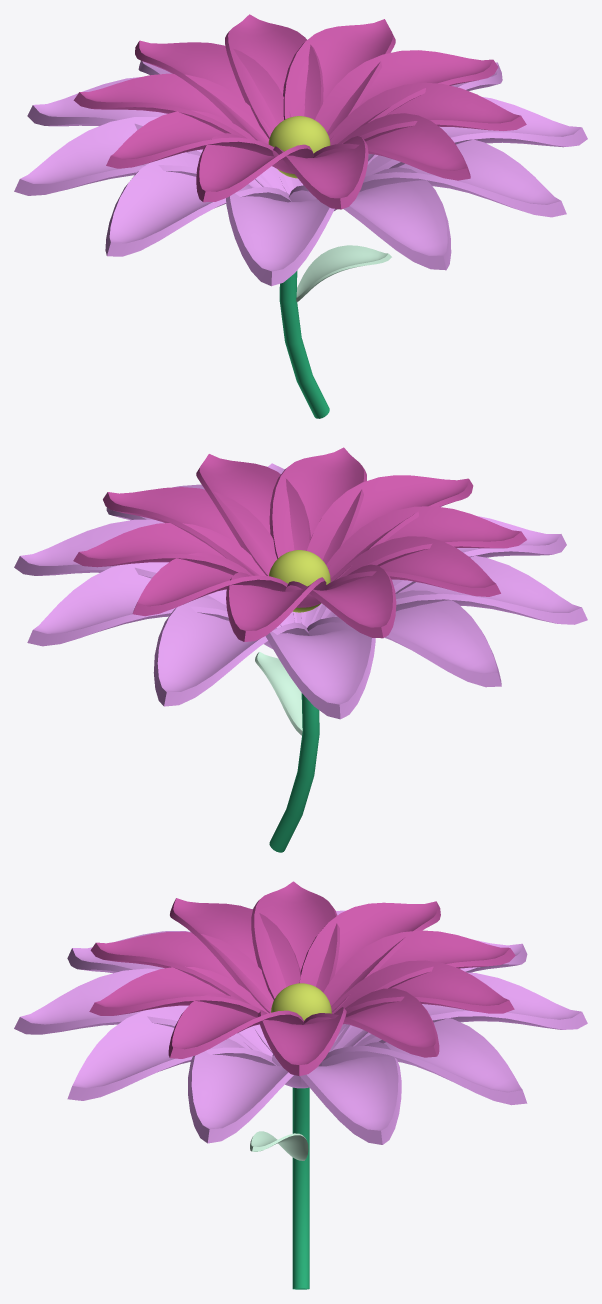
The model's file is florFinal.glb.
3 renders of one model, top to bottom at view 1: azimuth 30°, elevation 25°; view 2: azimuth 150°, elevation 25°; view 3: azimuth 270°, elevation 25°, orthographic. The views are drawn at different scales.
Visible parts, largest first — view 1: rose010 (×10), rose (×8), Cylinder001, rose020, Sphere001; view 2: rose010 (×10), rose (×7), Cylinder001, Sphere001, rose020; view 3: rose010 (×10), rose (×8), Cylinder001, Sphere001, rose020.
Boxes of the visible parts, x1,y1,x2,y2 form: rose010 (×10): (73, 14, 526, 209); rose (×8): (14, 62, 587, 286); Cylinder001: (279, 270, 329, 418); rose020: (296, 245, 391, 301); Sphere001: (268, 116, 330, 178); rose010 (×10): (73, 447, 526, 641); rose (×7): (14, 516, 587, 719); Cylinder001: (269, 693, 319, 852); Sphere001: (269, 550, 330, 612); rose020: (255, 651, 302, 735); rose010 (×10): (89, 881, 515, 1075); rose (×8): (14, 931, 587, 1144); Cylinder001: (292, 1087, 309, 1289); Sphere001: (271, 983, 331, 1020); rose020: (250, 1131, 308, 1160).
Size of the model in its own units: 5.66 by 3.62 by 5.9.
